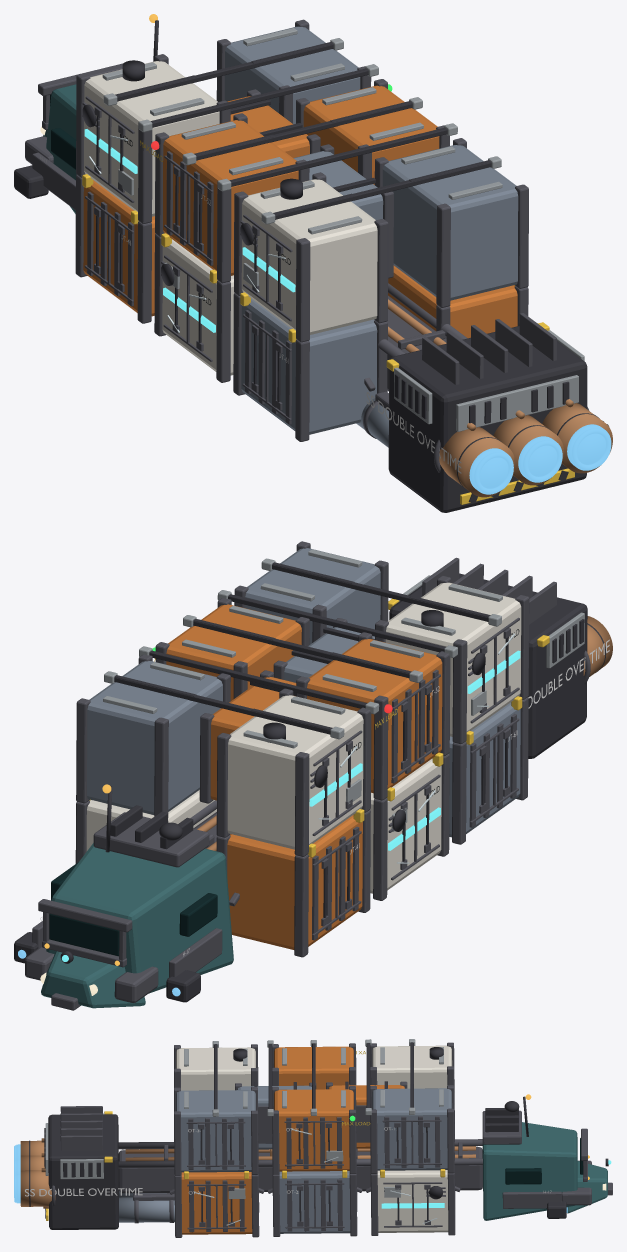
File: ss-double-overtime.glb
3 views of the same model, one above another, from view 1: azimuth 30°, elevation 25°; view 2: azimuth 150°, elevation 25°; view 3: azimuth 270°, elevation 25° (orthographic). The views are drawn at different scales.
Visible parts, largest first — view 1: Merged_Graphite, Merged_CargoSlate, Merged_EngineIron, Merged_ReeferBone, Merged_FreightOrange, Merged_PatchSteel, Merged_PipeCopper, Merged_EngineGlow, Merged_HullTeal, Merged_HazardYellow, Merged_ReeferGlow, ThrusterL (+4 smaller); view 2: Merged_Graphite, Merged_ReeferBone, Merged_CargoSlate, Merged_FreightOrange, Merged_EngineIron, Merged_HullTeal, Merged_PatchSteel, Merged_CabWindow, Merged_ReeferGlow, Merged_PipeCopper, Merged_HazardYellow, Merged_NameWhite; view 3: Merged_Graphite, Merged_CargoSlate, Merged_FreightOrange, Merged_EngineIron, Merged_ReeferBone, Merged_HullTeal, Merged_PatchSteel, Merged_PipeCopper, Merged_CabWindow, Merged_NameWhite, Merged_HazardYellow, Merged_ReeferGlow.
Boxes of the visible parts, x1=… form: Merged_Graphite: x1=25, y1=19, x2=589, y2=472; Merged_CargoSlate: x1=224, y1=26, x2=518, y2=447; Merged_EngineIron: x1=14, y1=20, x2=599, y2=512; Merged_ReeferBone: x1=84, y1=61, x2=377, y2=375; Merged_FreightOrange: x1=83, y1=85, x2=517, y2=338; Merged_PatchSteel: x1=102, y1=28, x2=584, y2=431; Merged_PipeCopper: x1=388, y1=299, x2=612, y2=497; Merged_EngineGlow: x1=474, y1=428, x2=611, y2=493; Merged_HullTeal: x1=43, y1=84, x2=76, y2=213; Merged_HazardYellow: x1=82, y1=140, x2=574, y2=504; Merged_ReeferGlow: x1=84, y1=129, x2=295, y2=332; ThrusterL: x1=469, y1=448, x2=513, y2=494; Merged_Graphite: x1=25, y1=541, x2=590, y2=1010; Merged_ReeferBone: x1=86, y1=582, x2=521, y2=893; Merged_CargoSlate: x1=87, y1=548, x2=520, y2=837; Merged_FreightOrange: x1=166, y1=604, x2=442, y2=949; Merged_EngineIron: x1=14, y1=562, x2=606, y2=1002; Merged_HullTeal: x1=41, y1=843, x2=233, y2=1008; Merged_PatchSteel: x1=103, y1=549, x2=584, y2=831; Merged_CabWindow: x1=49, y1=862, x2=217, y2=956; Merged_ReeferGlow: x1=62, y1=650, x2=520, y2=961; Merged_PipeCopper: x1=197, y1=616, x2=612, y2=850; Merged_HazardYellow: x1=89, y1=598, x2=549, y2=857; Merged_NameWhite: x1=40, y1=639, x2=609, y2=956; Merged_Graphite: x1=51, y1=1042, x2=612, y2=1237; Merged_CargoSlate: x1=119, y1=1085, x2=452, y2=1233; Merged_FreightOrange: x1=181, y1=1046, x2=404, y2=1234; Merged_EngineIron: x1=29, y1=1042, x2=608, y2=1229; Merged_ReeferBone: x1=176, y1=1045, x2=452, y2=1232; Merged_HullTeal: x1=482, y1=1122, x2=607, y2=1220; Merged_PatchSteel: x1=45, y1=1039, x2=443, y2=1199; Merged_PipeCopper: x1=20, y1=1138, x2=475, y2=1208; Merged_CabWindow: x1=505, y1=1138, x2=583, y2=1184; Merged_NameWhite: x1=25, y1=1127, x2=551, y2=1196; Merged_HazardYellow: x1=46, y1=1051, x2=445, y2=1220; Merged_ReeferGlow: x1=381, y1=1160, x2=611, y2=1208.
Bounding box in the file's own units: 2.46 × 2.21 × 8.55.
